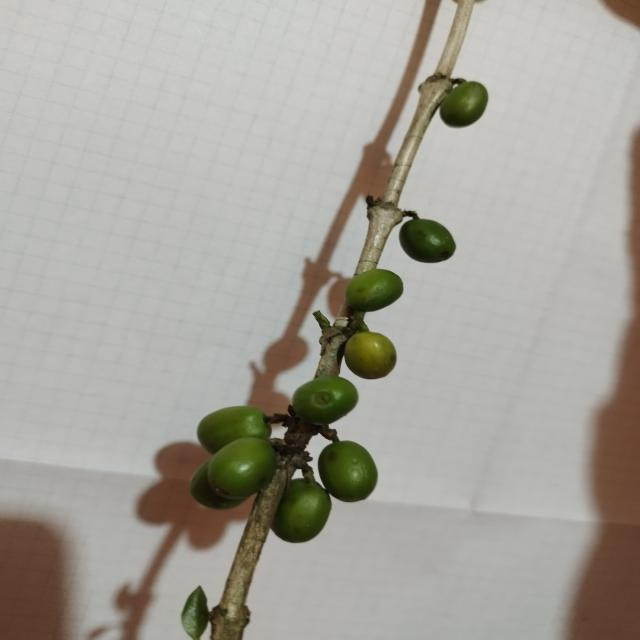Sano: (207, 438, 277, 501), (273, 480, 335, 546), (320, 441, 381, 505), (197, 407, 271, 458), (291, 376, 360, 429), (345, 268, 406, 319), (397, 218, 460, 266), (344, 329, 399, 382), (440, 79, 491, 130)
